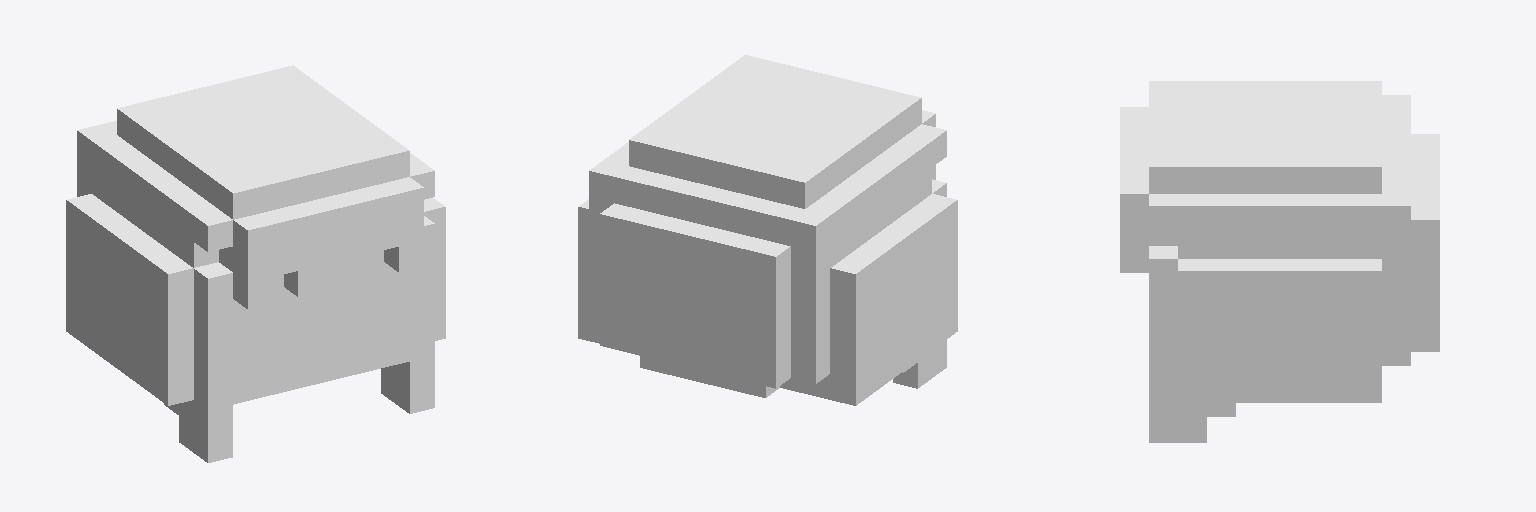
Rendered from zunko_Head.obj.
3 renders of one model, left to right at view 1: azimuth 30°, elevation 25°; view 2: azimuth 150°, elevation 25°; view 3: azimuth 270°, elevation 25°, orthographic.
Visible parts, largest first — view 1: zunko_Head; view 2: zunko_Head; view 3: zunko_Head.
Part boxes in pixels (x1,y1,x2,y2): zunko_Head: (66, 65, 445, 462); zunko_Head: (578, 55, 957, 405); zunko_Head: (1120, 81, 1439, 442).
Bounding box in the file's own units: 11 × 10 × 11.